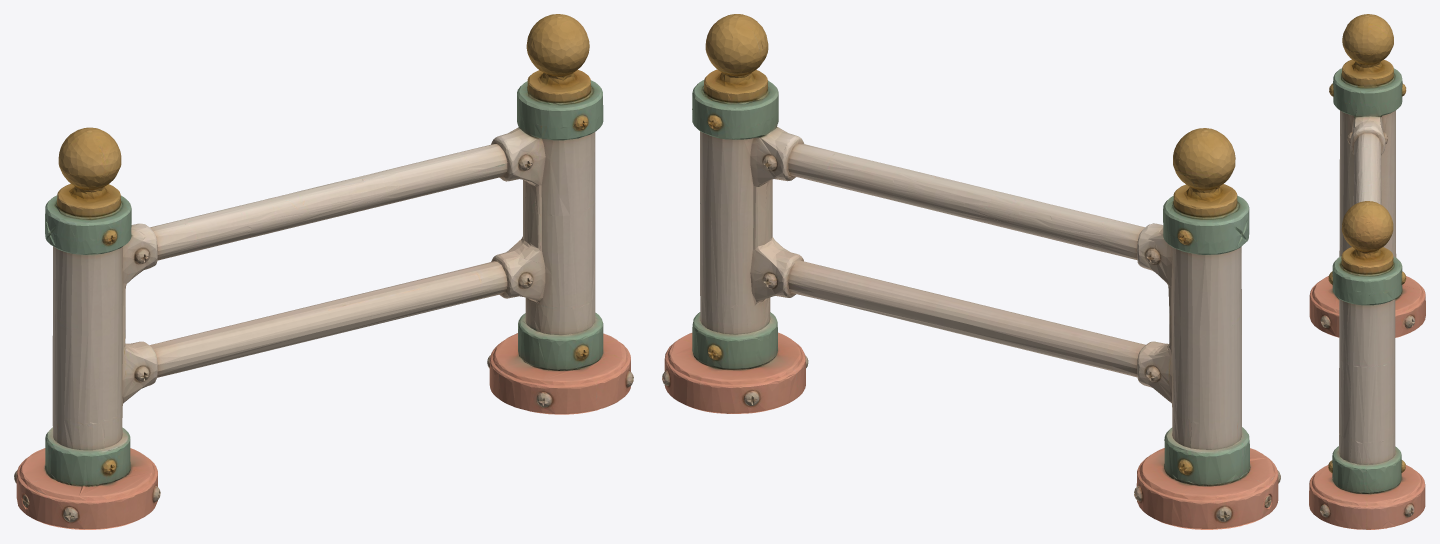
Rendered from 16-plaza-railing.glb.
3 renders of one model, left to right at view 1: azimuth 30°, elevation 25°; view 2: azimuth 150°, elevation 25°; view 3: azimuth 270°, elevation 25°, orthographic. The views are drawn at different scales.
Size of the model in its own units: 0.9999 by 0.5931 by 0.2073.
Materials: 1 (1 with a texture image).
